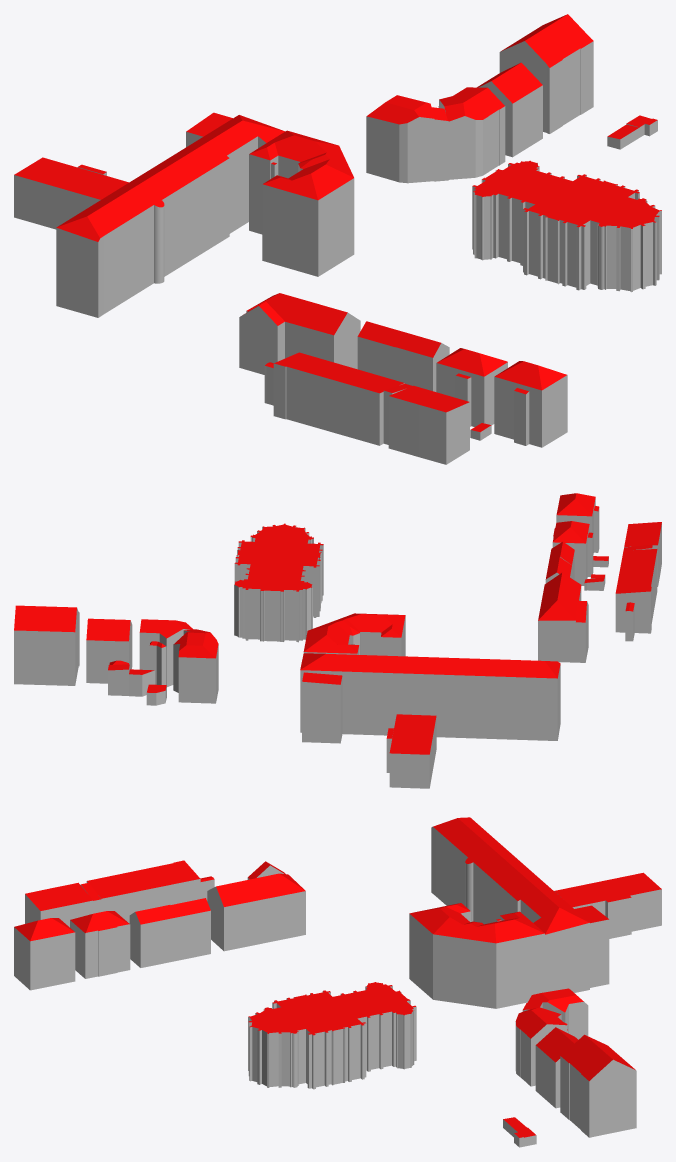
3 renders of one model, top to bottom at view 1: azimuth 30°, elevation 25°; view 2: azimuth 150°, elevation 25°; view 3: azimuth 270°, elevation 25°, orthographic. The views are drawn at different scales.
Size of the model in its own units: 188 by 25.43 by 196.
